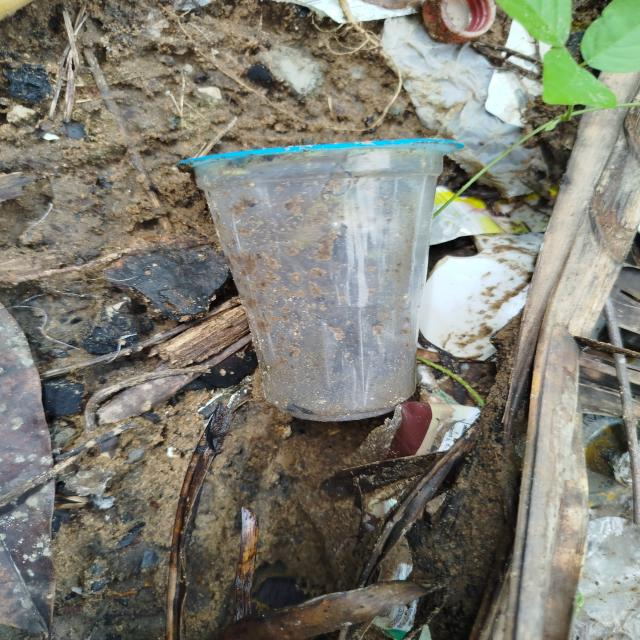plastic: (152, 120, 462, 448)
